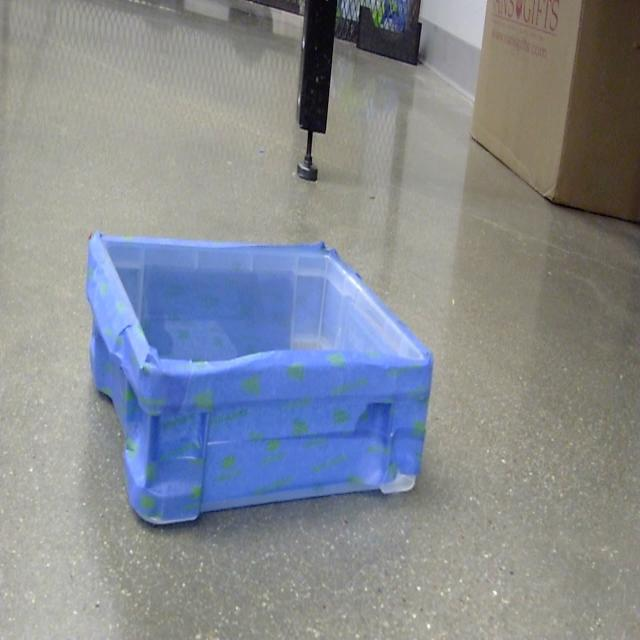bucket: (84, 233, 434, 530)
